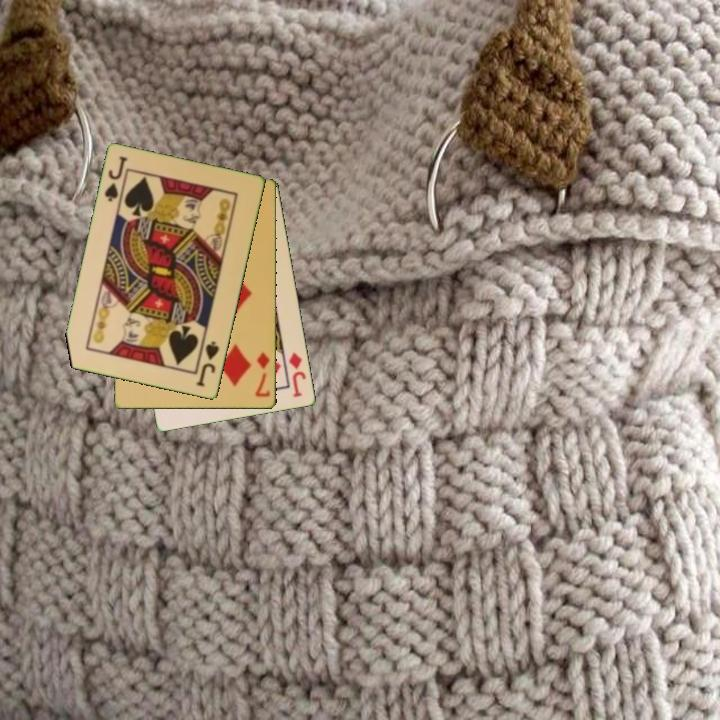7d: (252, 349, 273, 400)
Jd: (285, 349, 309, 400)
Js: (101, 153, 131, 205), (193, 338, 222, 390)
